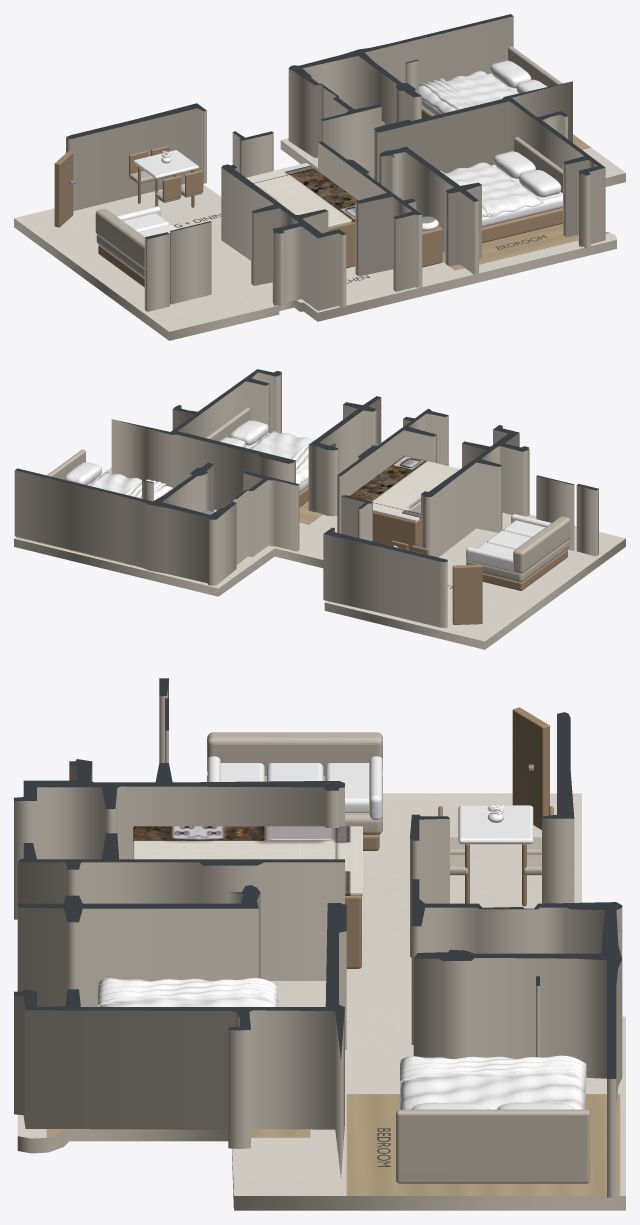
The model's file is carina-vega-unit-02.glb.
3 renders of one model, top to bottom at view 1: azimuth 30°, elevation 25°; view 2: azimuth 150°, elevation 25°; view 3: azimuth 270°, elevation 25°, orthographic. The views are drawn at different scales.
Parts seen in each view (by area): view 1: Partition walls, Apartment floor, Stone worktop, Draped bed linen, Draped bed linen.002, Sofa back, Open oak door, Walnut upholstered base, Marble dining top, Piped mattress, Tailored pillow, Upholstered headboard (+9 smaller); view 2: Partition walls, Apartment floor, Stone worktop, Open oak door, Sofa back, Kitchen cabinets, Draped bed linen, Upholstered sofa frame, Draped bed linen.002, Sofa plinth, Padded armrest.001, Tailored pillow (+5 smaller); view 3: Partition walls, Apartment floor, Upholstered headboard.001, Stone worktop, Sofa back, Draped bed linen.002, Draped bed linen.001, Draped bed linen.003, Open oak door, Marble dining top, Seat cushion.002, Draped bed linen (+4 smaller).
Part boxes in pixels (x1,y1,x2,y2): Partition walls: (66,14,605,311); Apartment floor: (14,134,625,340); Stone worktop: (246,163,357,227); Draped bed linen: (445,162,543,217); Draped bed linen.002: (418,71,514,113); Sofa back: (95,209,144,268); Open oak door: (54,151,73,227); Walnut upholstered base: (482,208,562,243); Marble dining top: (133,150,198,179); Piped mattress: (482,164,562,227); Tailored pillow: (519,170,561,197); Upholstered headboard: (514,137,562,192); Partition walls: (14,369,598,627); Apartment floor: (14,467,625,649); Stone worktop: (341,455,460,522); Open oak door: (452,564,482,624); Sofa back: (513,516,570,573); Kitchen cabinets: (373,512,422,550); Draped bed linen: (250,430,313,485); Upholstered sofa frame: (466,540,569,582); Draped bed linen.002: (89,472,173,500); Sofa plinth: (482,549,567,590); Padded armrest.001: (466,547,522,573); Tailored pillow: (230,420,268,445); Partition walls: (14,678,622,1197); Apartment floor: (17,793,625,1210); Upholstered headboard.001: (396,1109,589,1183); Stone worktop: (133,826,362,895); Sofa back: (207,732,382,775); Draped bed linen.002: (400,1056,585,1109); Draped bed linen.001: (98,978,278,1006); Draped bed linen.003: (400,1055,586,1084); Open oak door: (512,707,549,829); Marble dining top: (458,805,533,844); Seat cushion.002: (325,763,369,812); Draped bed linen: (98,978,277,1006).
Size of the model in its own units: 9.36 by 1.44 by 5.99.
12 materials, 2 textured.
